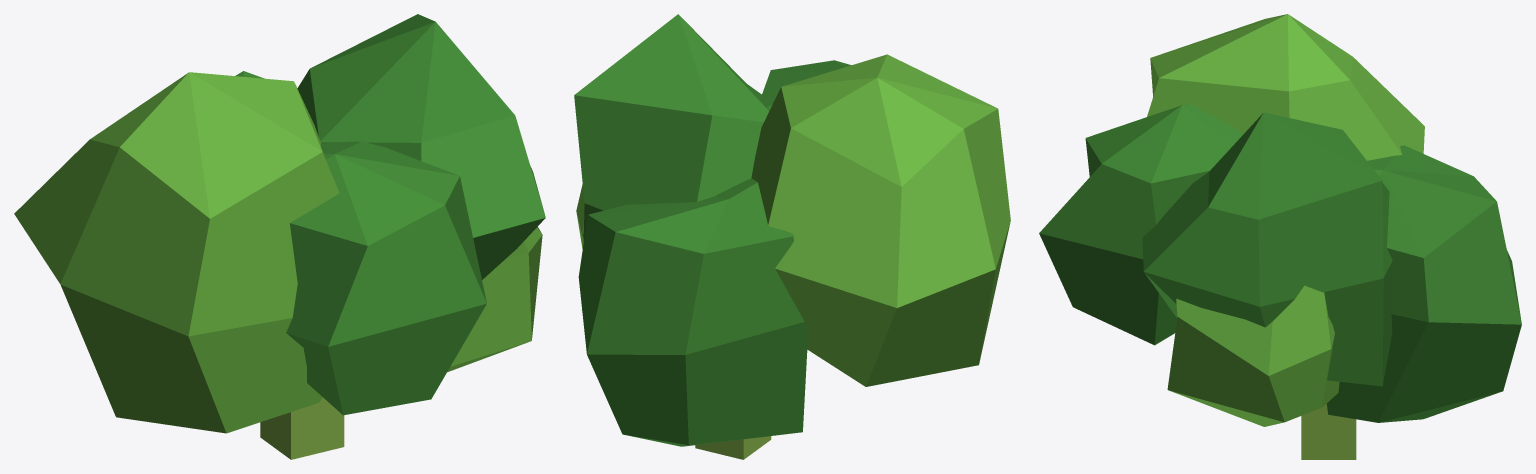
The model's file is potato_2.obj.
3 views of the same model, side by side, from view 1: azimuth 30°, elevation 25°; view 2: azimuth 150°, elevation 25°; view 3: azimuth 270°, elevation 25° (orthographic). The views are drawn at different scales.
Parts seen in each view (by area): view 1: plant; view 2: plant; view 3: plant.
Part boxes in pixels (bbox=[...]): plant: bbox=[14, 14, 545, 459]; plant: bbox=[574, 14, 1010, 459]; plant: bbox=[1039, 14, 1521, 459].
Bounding box in the file's own units: 0.2662 × 0.2281 × 0.2639.
